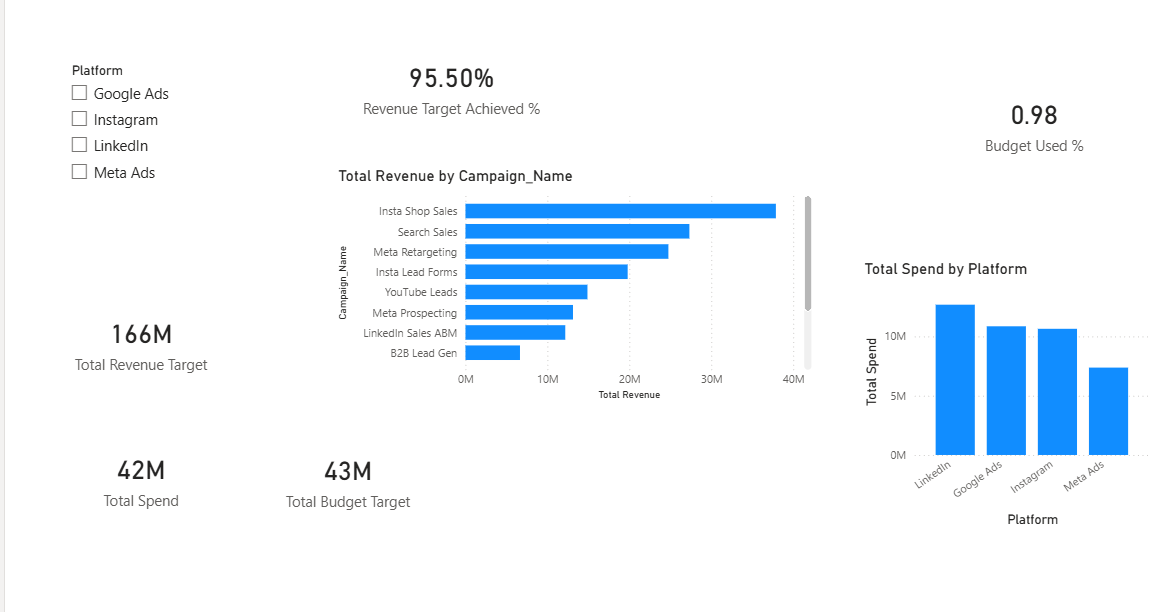

What the dashboard file says about the page in this screenshot:
{"tool":"powerbi","page":{"name":"Page 2","canvas":[1280,720],"ordinal":1},"visuals":[{"type":"card","fields":{"Values":["marketing_campaign_data_1500rows.Total Budget Target"]},"box":[804,317.9,300,300],"z":0},{"type":"card","fields":{"Values":["marketing_campaign_data_1500rows.Total Spend"]},"box":[340,420,300,300],"z":1000},{"type":"card","fields":{"Values":["marketing_campaign_data_1500rows.Budget Used %"]},"box":[804,7.9,300,300],"z":2000},{"type":"card","fields":{"Values":["marketing_campaign_data_1500rows.Total Revenue Target"]},"box":[340,270,300,150],"z":3000},{"type":"card","fields":{"Values":["marketing_campaign_data_1500rows.Revenue Target Achieved %"]},"box":[340,7.9,300,262.1],"z":4000},{"type":"slicer","fields":{"Values":["marketing_campaign_data_1500rows.Platform"]},"box":[13.7,97.4,300.5,262.1],"z":4001},{"type":"clusteredBarChart","fields":{"Category":["marketing_campaign_data_1500rows.Campaign_Name"],"Y":["marketing_campaign_data_1500rows.Total Revenue"]},"box":[669.6,82.3,153.7,262.1],"z":4002},{"type":"clusteredColumnChart","fields":{"Category":["marketing_campaign_data_1500rows.Platform"],"Y":["marketing_campaign_data_1500rows.Total Spend"]},"box":[1084.1,82.3,166,299.1],"z":4003}]}

Visuals, with their boxes on the page's 1280x720 design canvas (x1, y1, x2, y2). These are canvas units, not pixel positions in the 1167x612 screenshot, which may show the page scaled, cropped or inside an application window:
card - marketing_campaign_data_1500rows.Total Budget Target: 804:318:1104:618
card - marketing_campaign_data_1500rows.Total Spend: 340:420:640:720
card - marketing_campaign_data_1500rows.Budget Used %: 804:8:1104:308
card - marketing_campaign_data_1500rows.Total Revenue Target: 340:270:640:420
card - marketing_campaign_data_1500rows.Revenue Target Achieved %: 340:8:640:270
slicer - marketing_campaign_data_1500rows.Platform: 14:97:314:360
clusteredBarChart - marketing_campaign_data_1500rows.Campaign_Name x marketing_campaign_data_1500rows.Total Revenue: 670:82:823:344
clusteredColumnChart - marketing_campaign_data_1500rows.Platform x marketing_campaign_data_1500rows.Total Spend: 1084:82:1250:381
